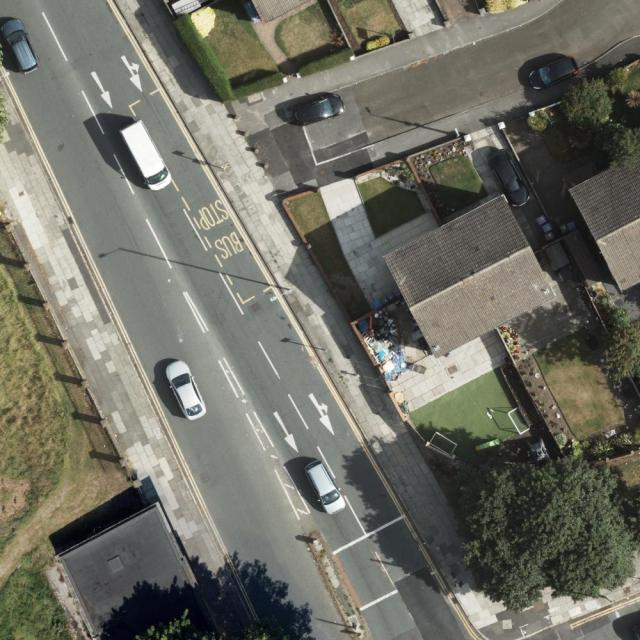roof: (383, 194, 558, 359), (56, 497, 226, 640), (570, 150, 640, 293), (252, 0, 310, 24)
